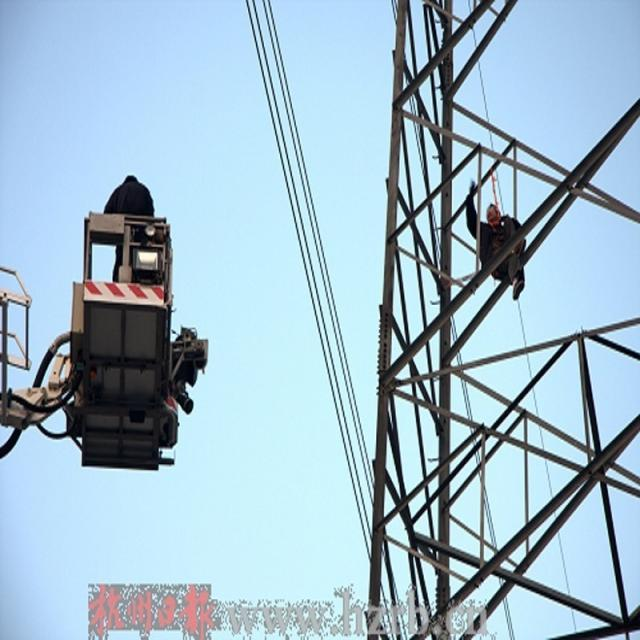non-critical vegetation: (348, 15, 636, 608)
